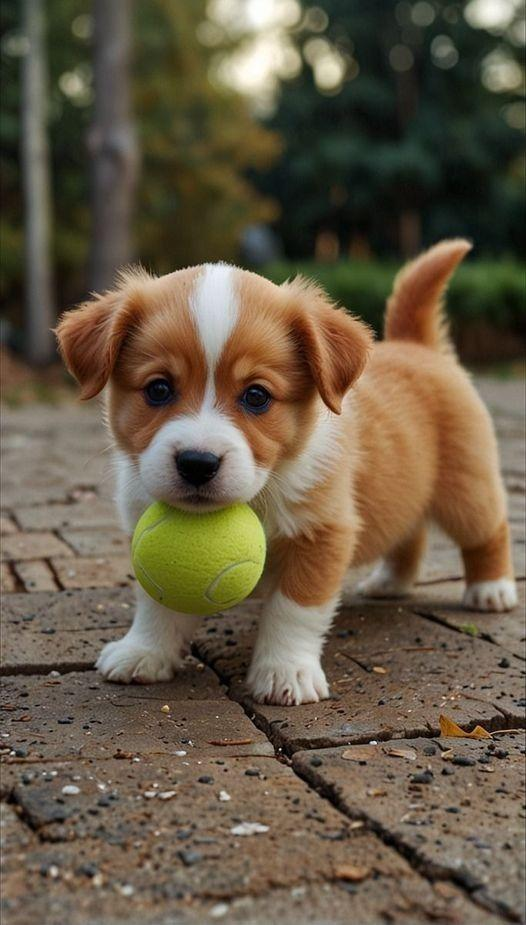puppy-dog: (52, 236, 518, 708)
